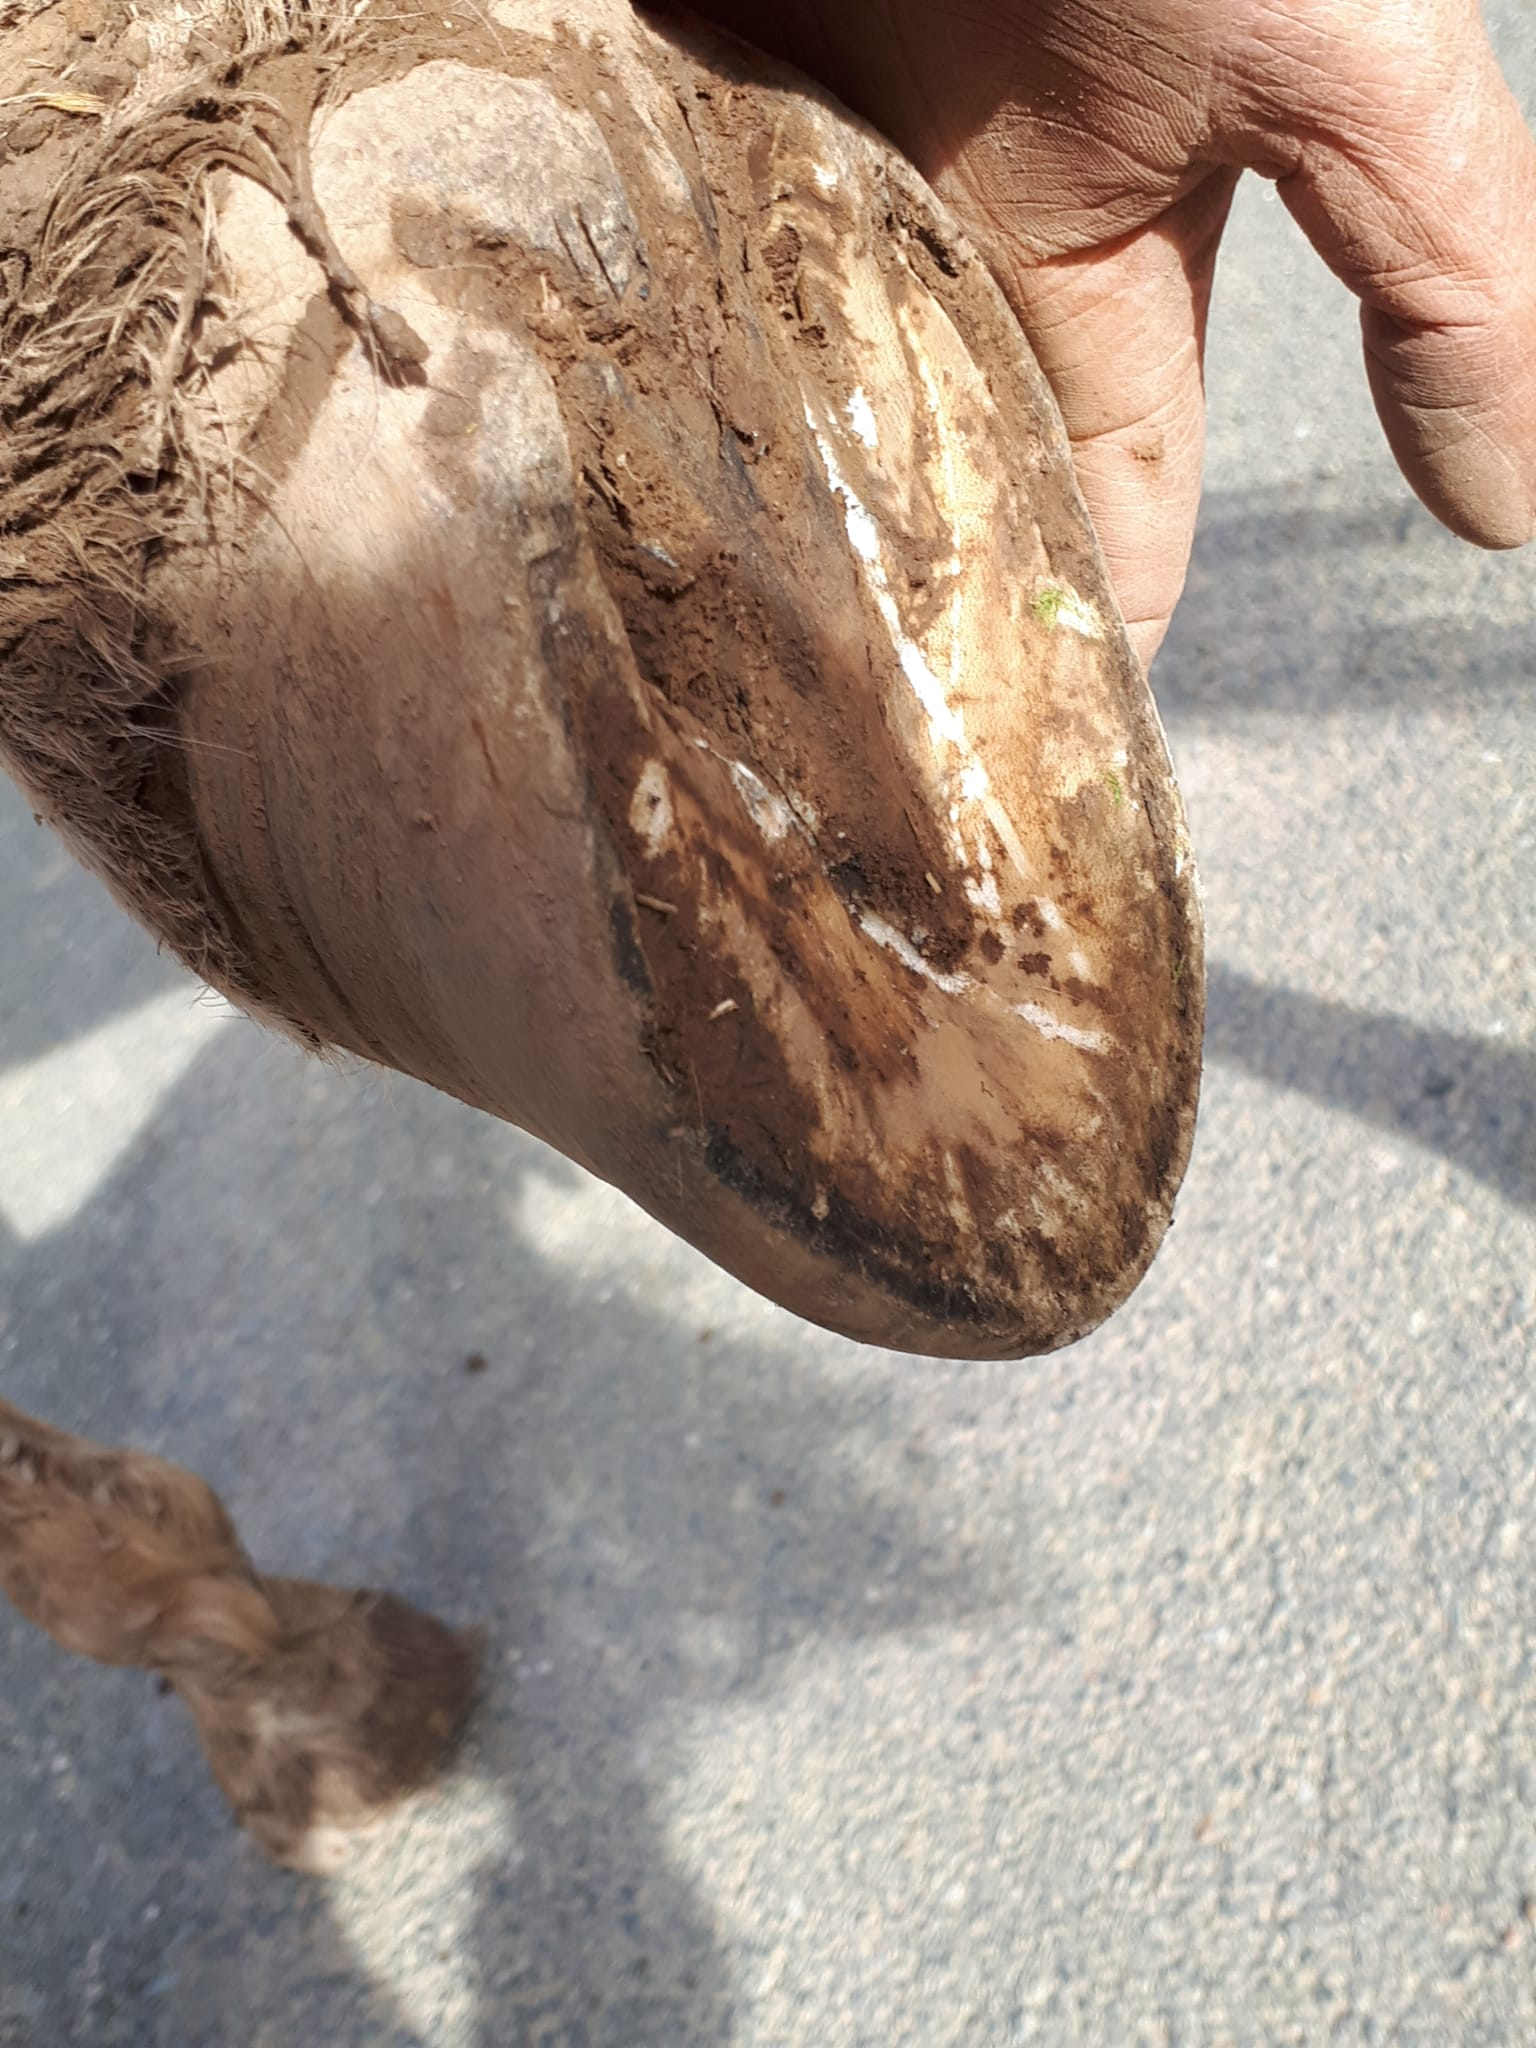horsesole: (471, 81, 1210, 1361)
